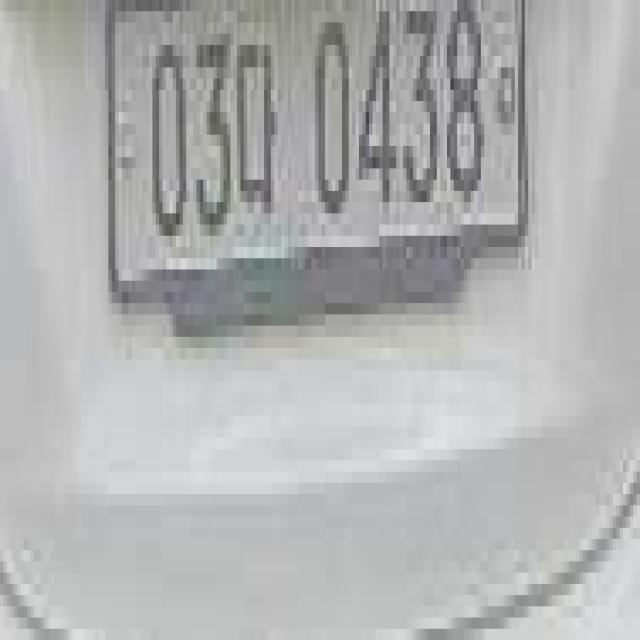illegal_plate: (104, 4, 535, 307)
